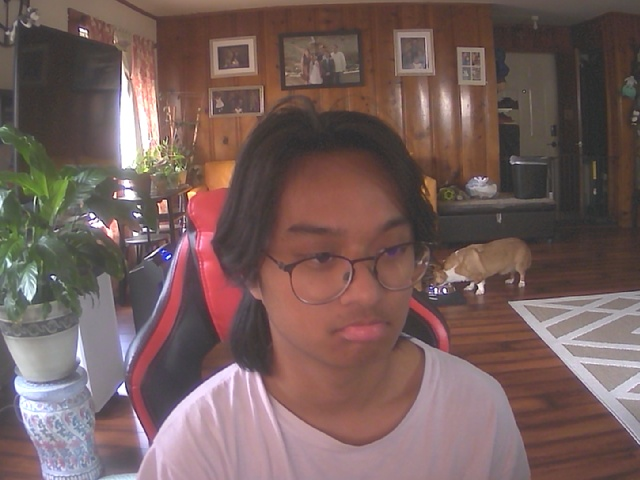sad: (232, 123, 438, 369)
